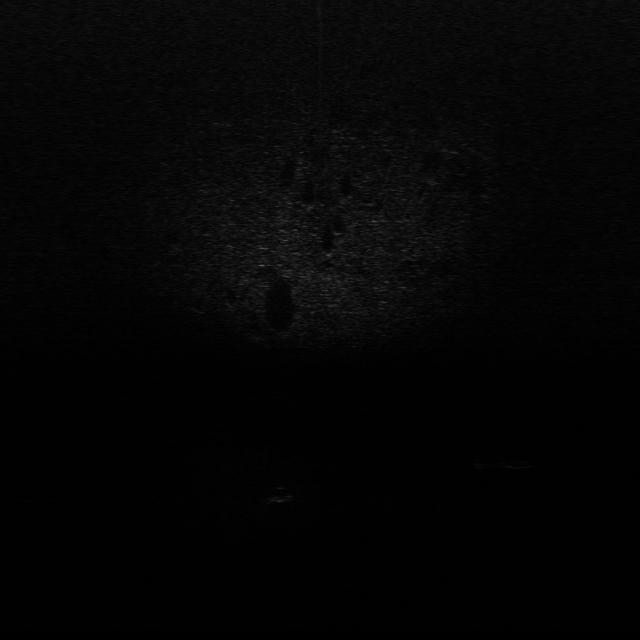ball: (259, 481, 303, 508)
human body: (470, 448, 544, 474)
